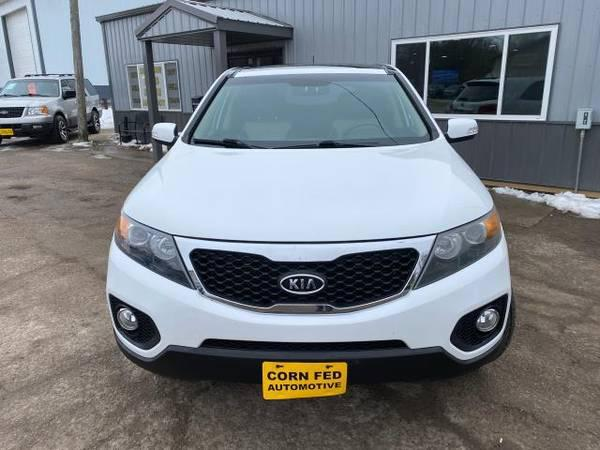Front_Bumper: (102, 240, 513, 378)
Front_Windshield: (184, 74, 439, 149)
Grille: (175, 230, 437, 310)
Hood: (122, 139, 494, 241)
Left_Headlight: (413, 207, 501, 287)
Left_Mirror: (445, 117, 480, 139)
Right_Headlight: (113, 206, 194, 284)
Right_Mirror: (150, 119, 177, 143)
